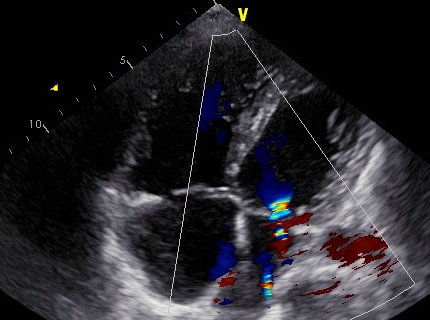MR: (248, 193, 308, 238)
